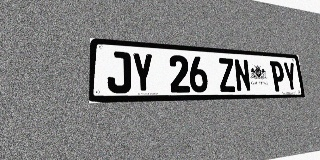2: (169, 55, 190, 93)
6: (188, 56, 208, 92)
J: (107, 51, 131, 93)
N: (233, 59, 251, 92)
P: (270, 61, 286, 91)
Y: (131, 52, 154, 93), (282, 62, 298, 91)
Z: (217, 58, 236, 92)
